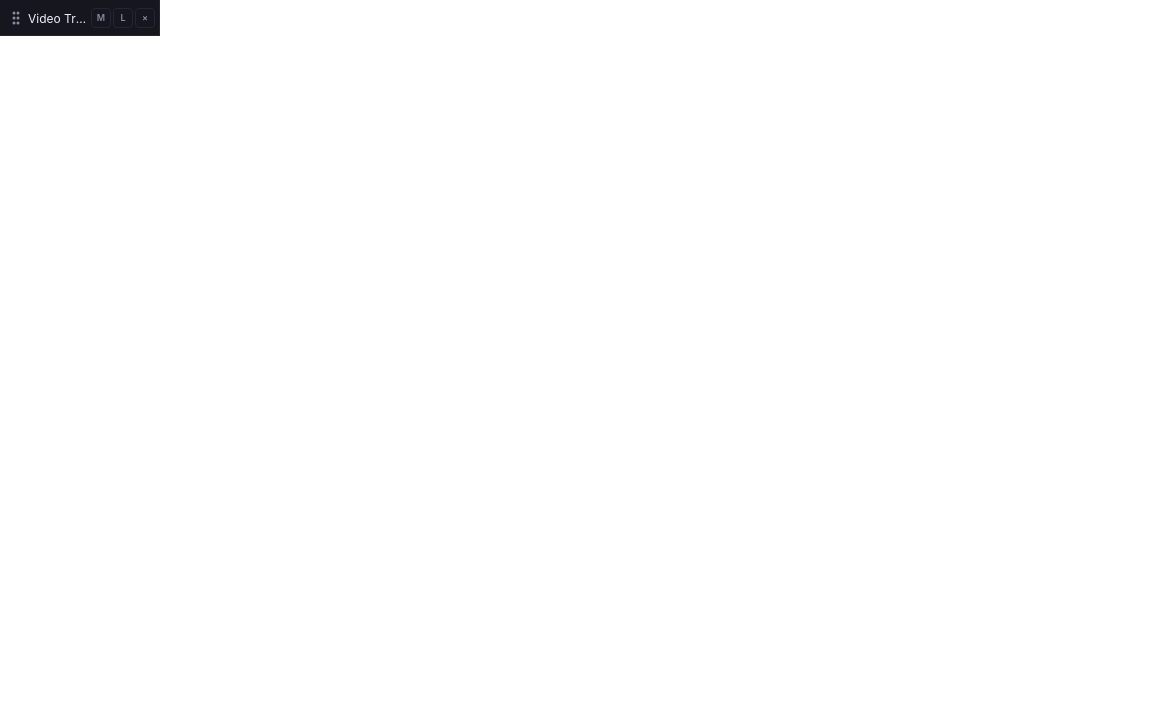
TrackHeader › opens confirmation dialog when delete button is clicked
Click the button named "Delete track".
click(145, 18)  # box x1=135 y1=8 x2=155 y2=28
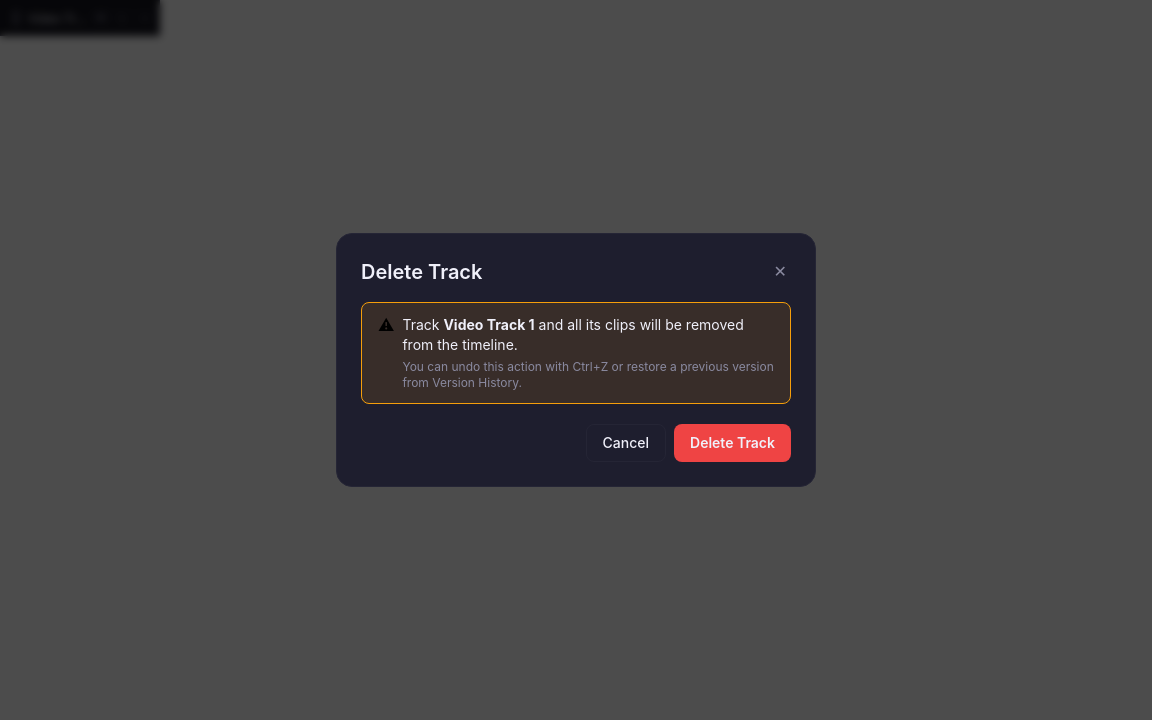
Check: the dialog is shown
Check: the heading "Delete Track" is shown, box x1=361 y1=258 x2=482 y2=286
